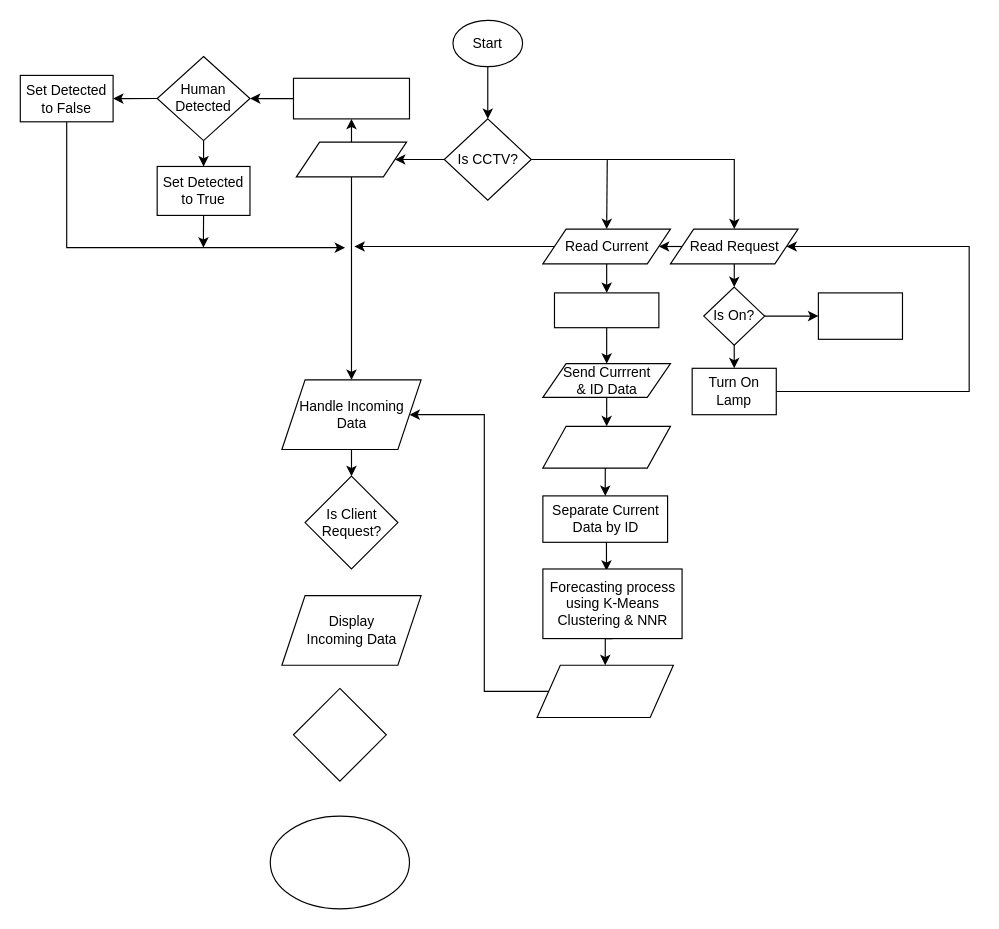
This 999x929 diagram has some shape labels left out. The shapes that lost their labels are listed below. From the top down, each one's box as (x1, y1, x2, y2) in pixels, then its label:
(292, 77, 409, 119): Human Detection
(295, 141, 407, 177): Streaming
(553, 292, 659, 328): Add Device ID
(817, 292, 902, 339): Turn Off Lamp
(542, 425, 670, 468): Read Data
(536, 664, 673, 717): Send Forecast Data
(292, 687, 386, 781): Send Request?
(269, 815, 409, 909): End
